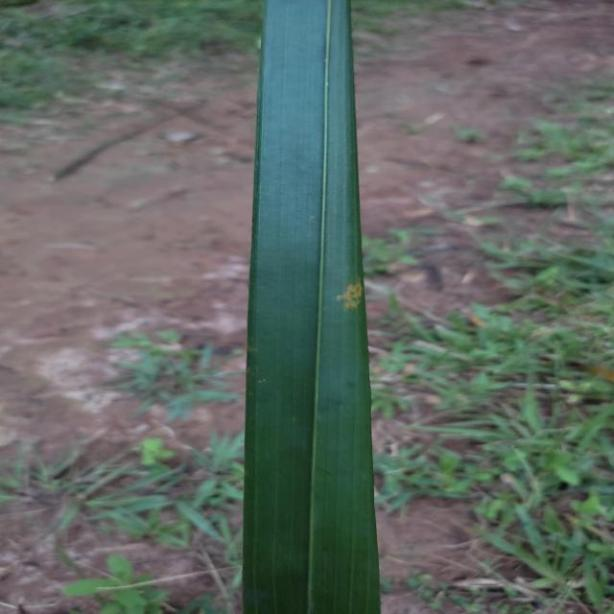Kalium: (241, 0, 384, 614)
